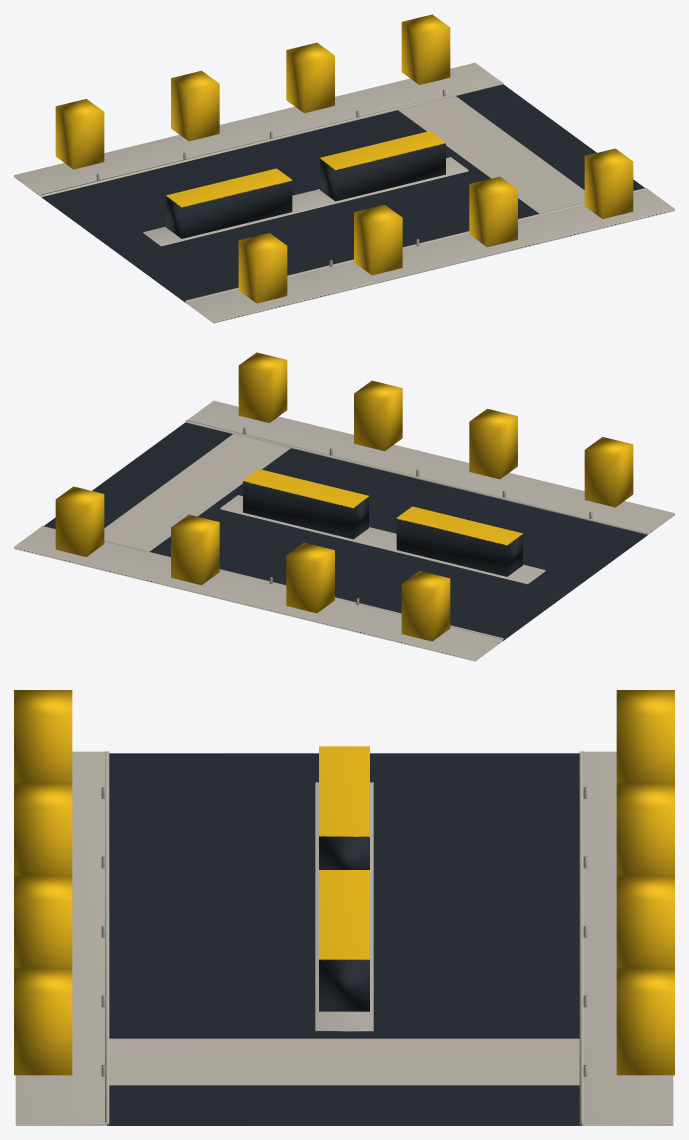
3 views of the same model, one above another, from view 1: azimuth 30°, elevation 25°; view 2: azimuth 150°, elevation 25°; view 3: azimuth 270°, elevation 25° (orthographic). The views are drawn at different scales.
Visible parts, largest first — view 1: road_simplified, shelter_simplified; view 2: road_simplified, shelter_simplified; view 3: road_simplified, shelter_simplified.
Part boxes in pixels (bbox=[...]): road_simplified: bbox=[14, 62, 674, 323]; shelter_simplified: bbox=[55, 14, 633, 303]; road_simplified: bbox=[14, 400, 674, 661]; shelter_simplified: bbox=[55, 352, 633, 641]; road_simplified: bbox=[15, 751, 673, 1125]; shelter_simplified: bbox=[14, 690, 674, 1075].
Bounding box in the file's own units: 48 × 6 × 36.2.
2 materials, 2 textured.
